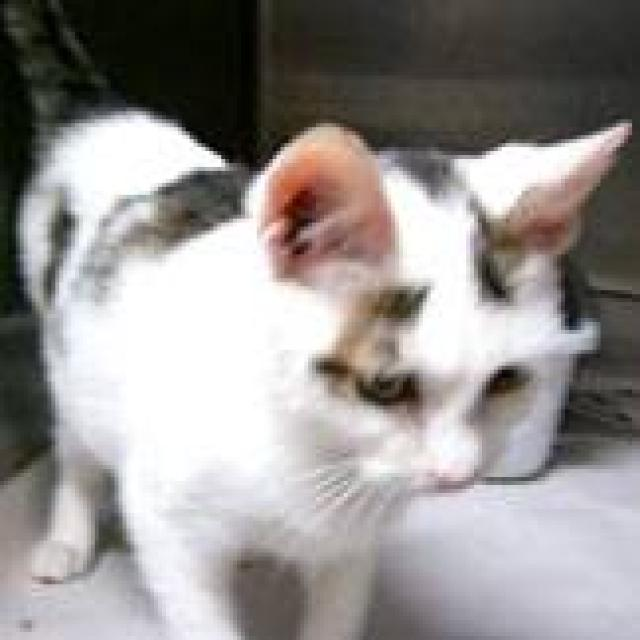cat: (12, 103, 632, 636)
